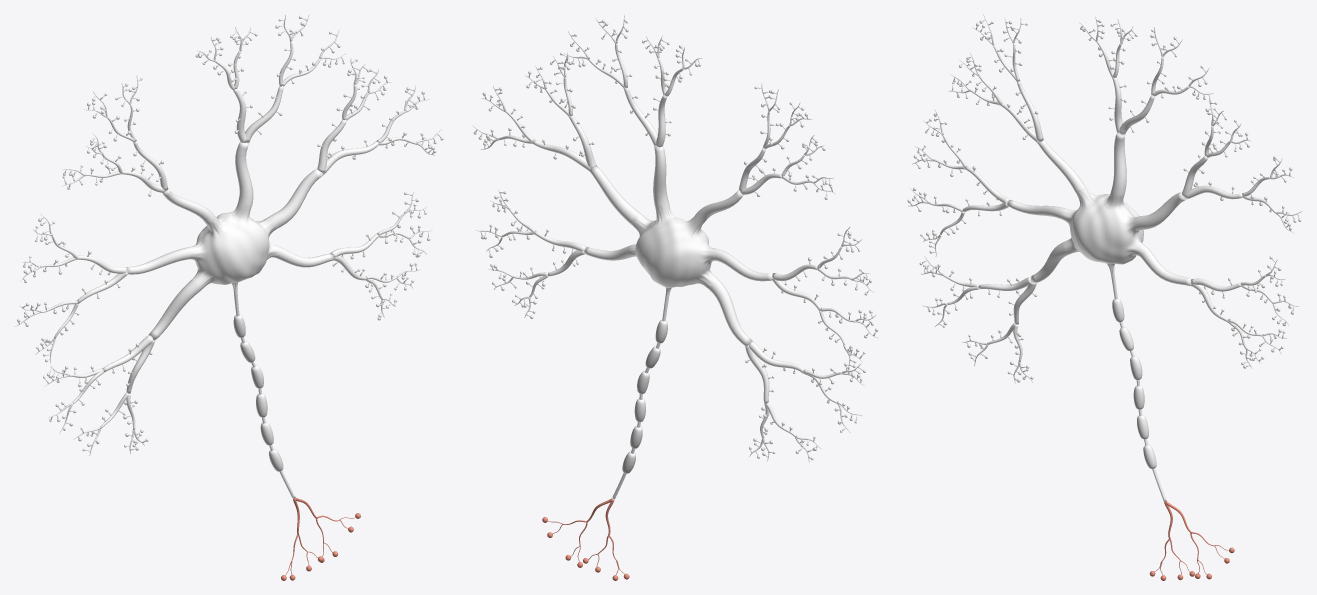
The model's file is nervcell.glb.
The picture shows the model from 3 angles, left to right: view 1: azimuth 30°, elevation 25°; view 2: azimuth 150°, elevation 25°; view 3: azimuth 330°, elevation 25°; orthographic projection. The views are drawn at different scales.
Visible parts, largest first — view 1: Dendrites, Dendritic_spines, Soma, Soma_branch_junctions, Myelin_sheaths, Axon_terminals; view 2: Dendrites, Dendritic_spines, Soma, Soma_branch_junctions, Myelin_sheaths, Axon_terminals; view 3: Dendrites, Dendritic_spines, Soma, Soma_branch_junctions, Myelin_sheaths, Axon_terminals.
Part boxes in pixels (<box>): Dendrites: <box>14,14,441,455</box>; Dendritic_spines: <box>17,15,443,451</box>; Soma: <box>195,212,269,284</box>; Soma_branch_junctions: <box>186,200,280,296</box>; Myelin_sheaths: <box>233,315,283,471</box>; Axon_terminals: <box>281,497,360,580</box>; Dendrites: <box>472,14,878,462</box>; Dendritic_spines: <box>473,19,878,460</box>; Soma: <box>635,218,711,287</box>; Soma_branch_junctions: <box>629,201,720,300</box>; Myelin_sheaths: <box>622,320,667,473</box>; Axon_terminals: <box>542,498,629,580</box>; Dendrites: <box>907,14,1302,383</box>; Dendritic_spines: <box>907,19,1301,382</box>; Soma: <box>1070,194,1143,264</box>; Soma_branch_junctions: <box>1059,186,1149,278</box>; Myelin_sheaths: <box>1112,298,1156,468</box>; Axon_terminals: <box>1149,501,1234,580</box>.
Bounding box in the file's own units: 13.85 × 18.03 × 1.78.
